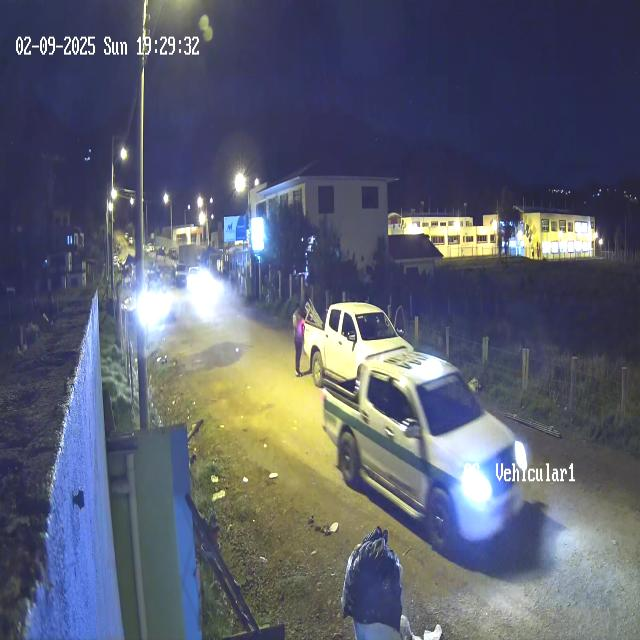CMT: (321, 349, 530, 558)
